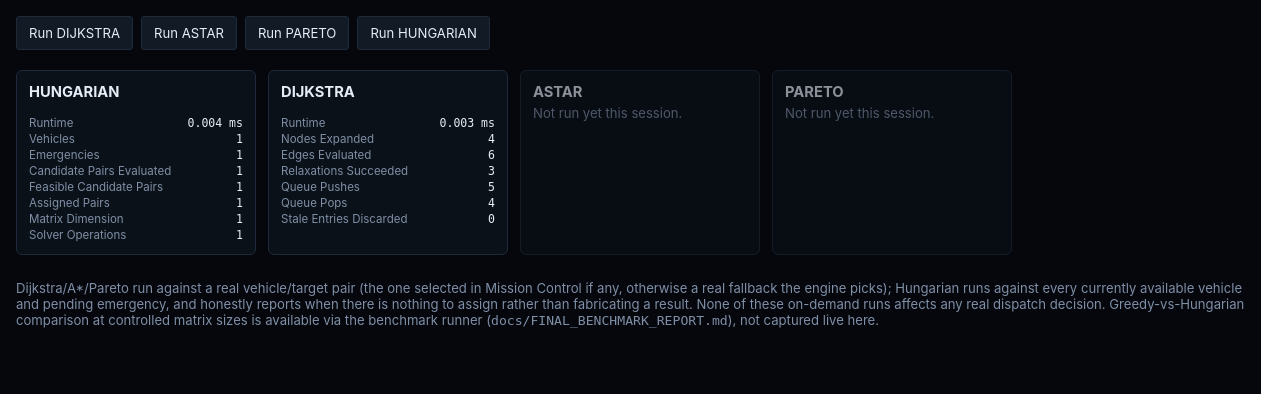
Test: AlgorithmLabPage › shows a real inline error when a run fails (e.g. HUNGARIAN with nothing to assign)
Click the button "Run HUNGARIAN". click: (424, 33)
box: [357,16,490,50]
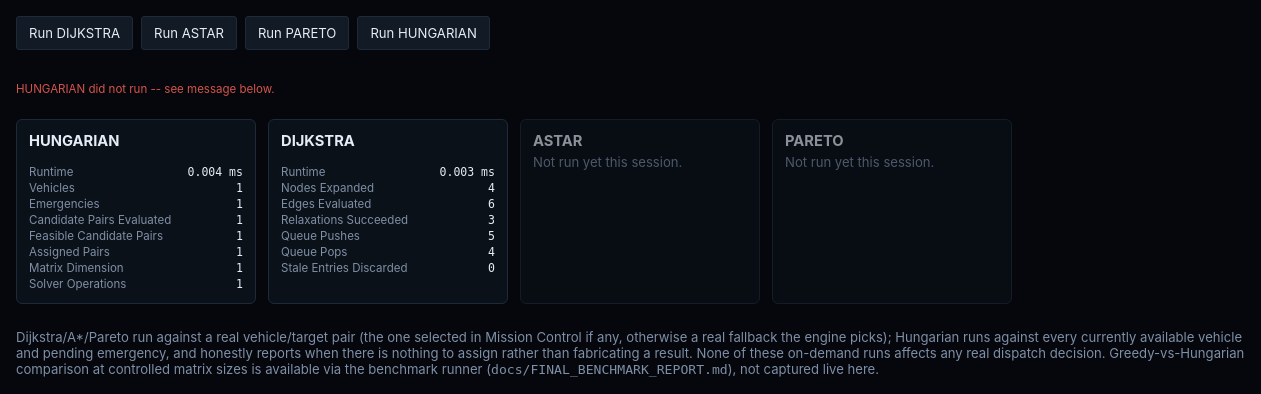
Expected: the text "HUNGARIAN did not run -- see message below." is shown, [16,82,275,96]
